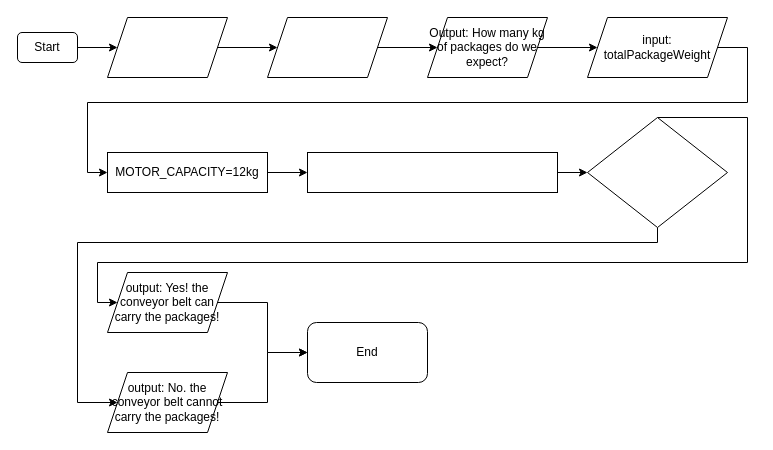
Image size: 773x450. Some labels were removed from this diagram. Here are the shapes that lost their labels. From the top down, the box of each, then its label:
(106, 16, 228, 78): Output: How many motors are carrying the package?
(266, 16, 388, 78): input: motorCount
(306, 152, 558, 192): maxLoad=MOTOR_CAPACITY*motorCount
(586, 116, 728, 228): is totalPackageWeight < maxLoad
